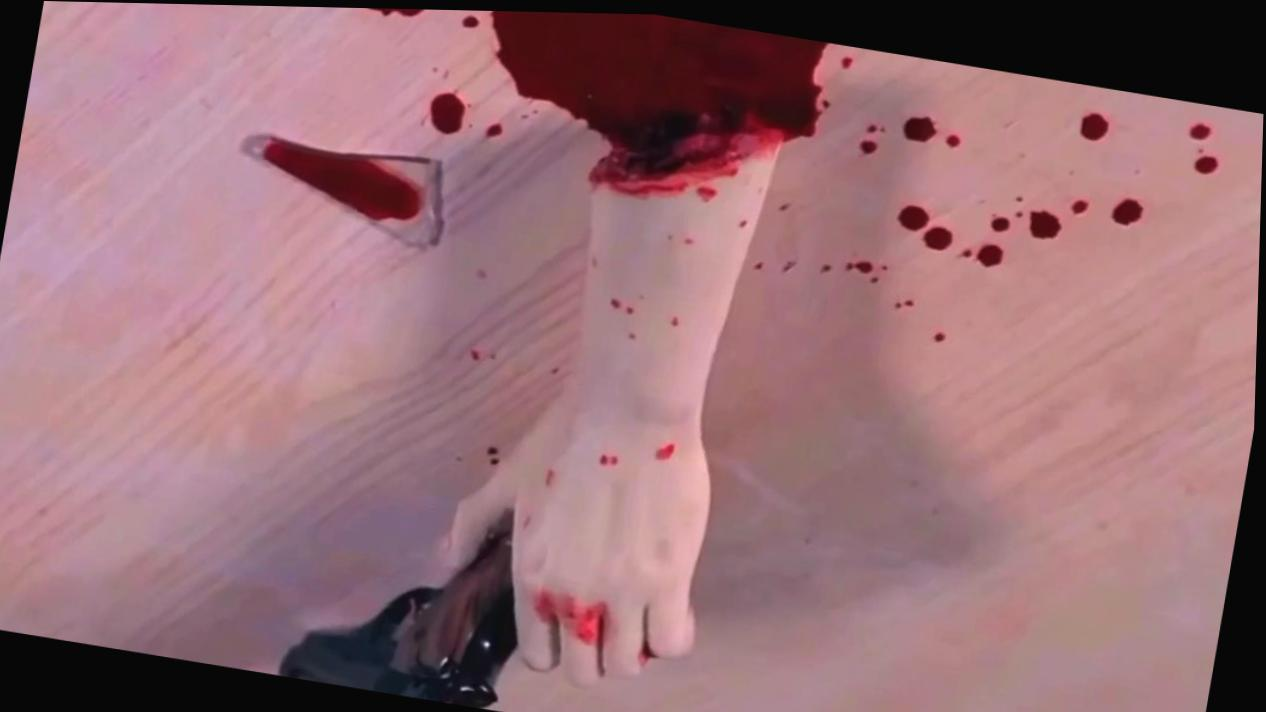Fire: (217, 4, 1264, 680)
